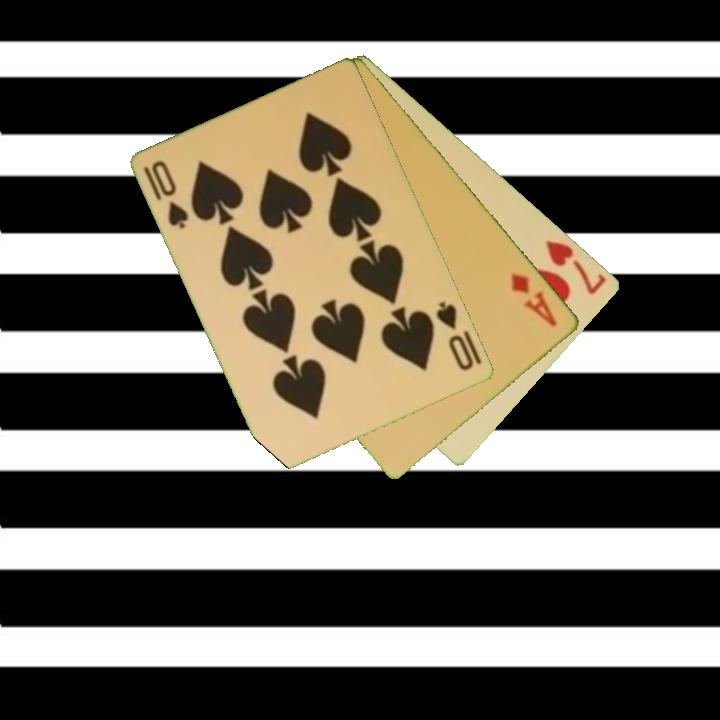10s: (141, 157, 192, 233), (433, 298, 478, 374)
7h: (542, 236, 610, 298)
Ad: (507, 269, 561, 330)
